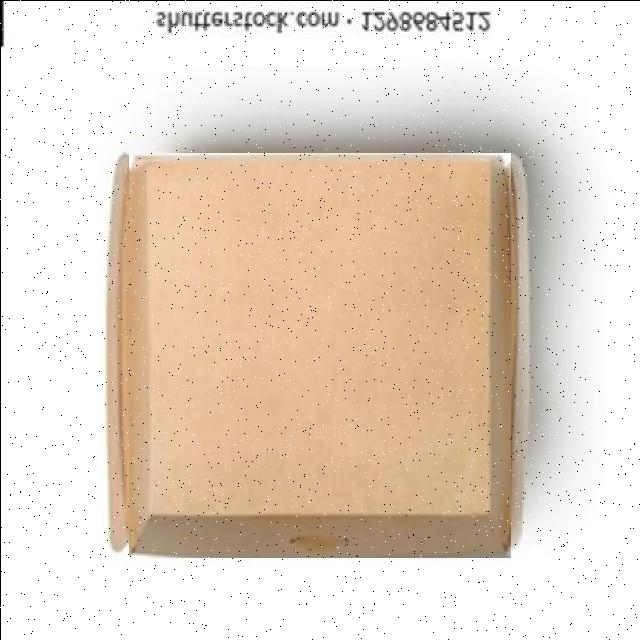normal: (128, 152, 510, 557)
